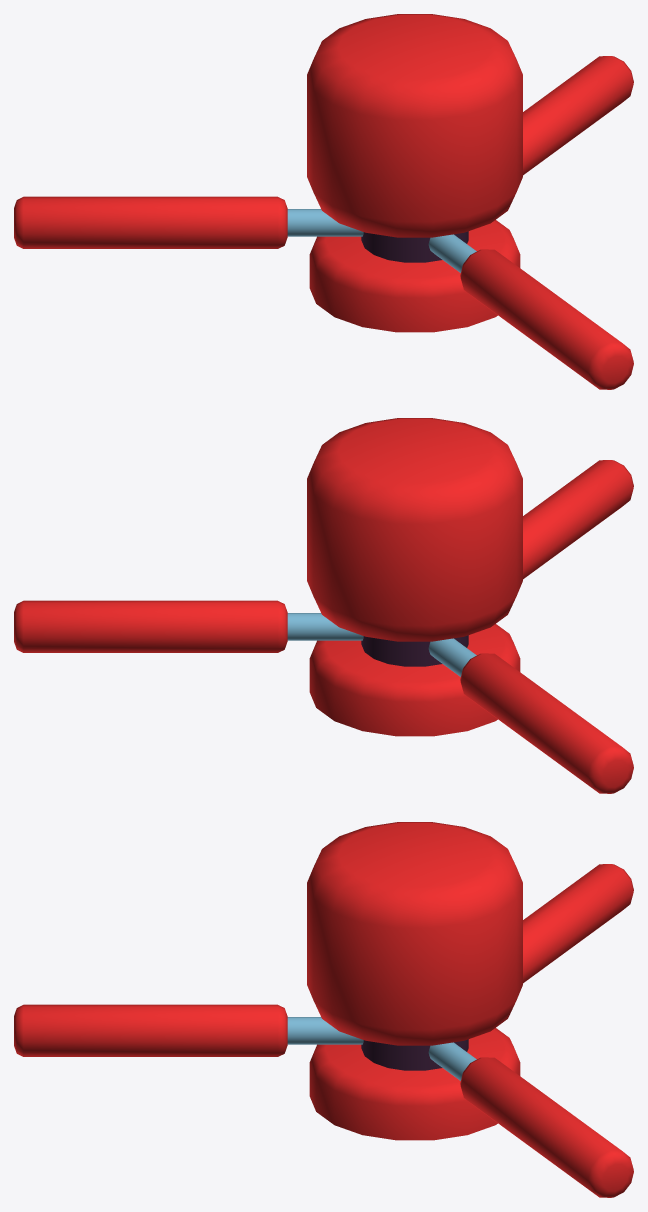
The model's file is Trap_5.fbx.
The picture shows the model from 3 angles, top to bottom: view 1: azimuth 30°, elevation 25°; view 2: azimuth 150°, elevation 25°; view 3: azimuth 270°, elevation 25°; orthographic projection.
Visible parts, largest first — view 1: Trap_5, Circle.008, Circle, Circle.004, Circle.006, Circle.001, Circle.007, Circle.003; view 2: Trap_5, Circle.006, Circle, Circle.008, Circle.004, Circle.001, Circle.005, Circle.007; view 3: Trap_5, Circle.004, Circle, Circle.006, Circle.008, Circle.001, Circle.003, Circle.005.
Part boxes in pixels (box(x1,y1,x2,y2)): Trap_5: box(307, 14, 522, 237); Circle.008: box(14, 196, 287, 248); Circle: box(309, 220, 520, 332); Circle.004: box(460, 249, 633, 389); Circle.006: box(523, 56, 633, 175); Circle.001: box(361, 231, 468, 262); Circle.007: box(287, 209, 363, 236); Circle.003: box(428, 234, 476, 272); Trap_5: box(307, 418, 522, 641); Circle.006: box(14, 600, 287, 652); Circle: box(309, 624, 520, 736); Circle.008: box(460, 653, 633, 793); Circle.004: box(523, 460, 633, 579); Circle.001: box(361, 635, 468, 666); Circle.005: box(287, 613, 363, 640); Circle.007: box(428, 638, 476, 676); Trap_5: box(307, 822, 522, 1045); Circle.004: box(14, 1004, 287, 1056); Circle: box(309, 1028, 520, 1140); Circle.006: box(460, 1057, 633, 1197); Circle.008: box(523, 864, 633, 983); Circle.001: box(361, 1039, 468, 1070); Circle.003: box(287, 1017, 363, 1044); Circle.005: box(428, 1042, 476, 1080).
Size of the model in its own units: 3.39 by 1.27 by 2.95.
1 material, 1 textured.
